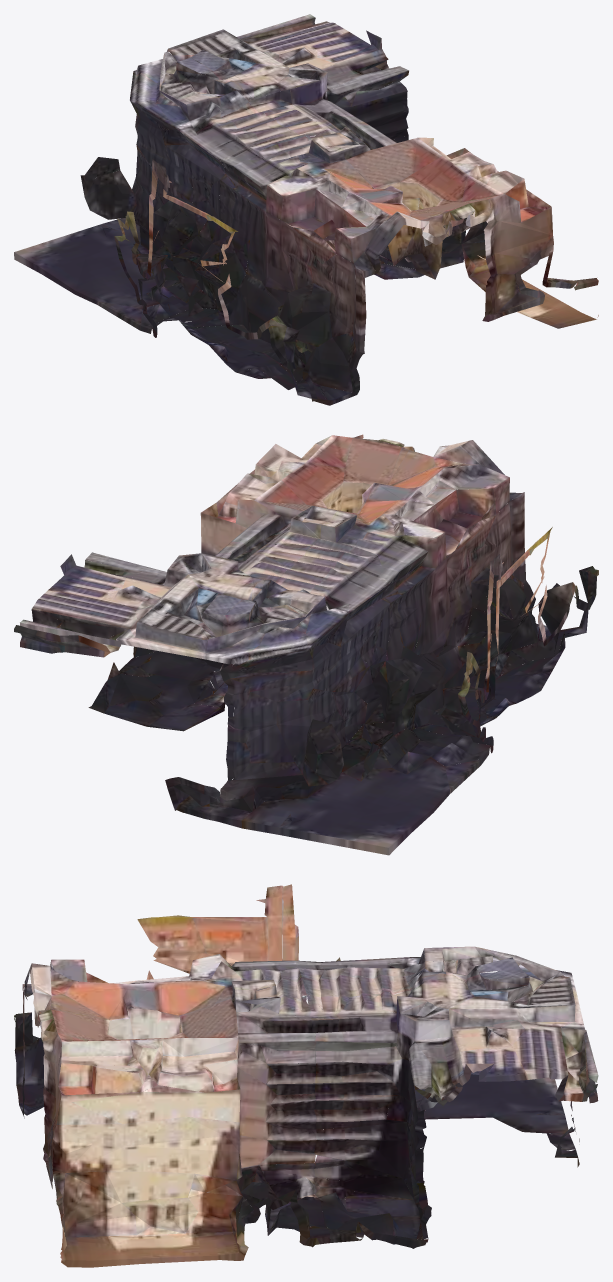
3 renders of one model, top to bottom at view 1: azimuth 30°, elevation 25°; view 2: azimuth 150°, elevation 25°; view 3: azimuth 270°, elevation 25°, orthographic. The views are drawn at different scales.
Parts seen in each view (by area): view 1: Mesh_0; view 2: Mesh_0; view 3: Mesh_0.
Part boxes in pixels (x1,y1,x2,y2): Mesh_0: (14, 14, 598, 405); Mesh_0: (14, 434, 598, 855); Mesh_0: (14, 884, 598, 1267).
Size of the model in its own units: 66.57 by 31.36 by 82.64.
2 materials, 2 textured.
